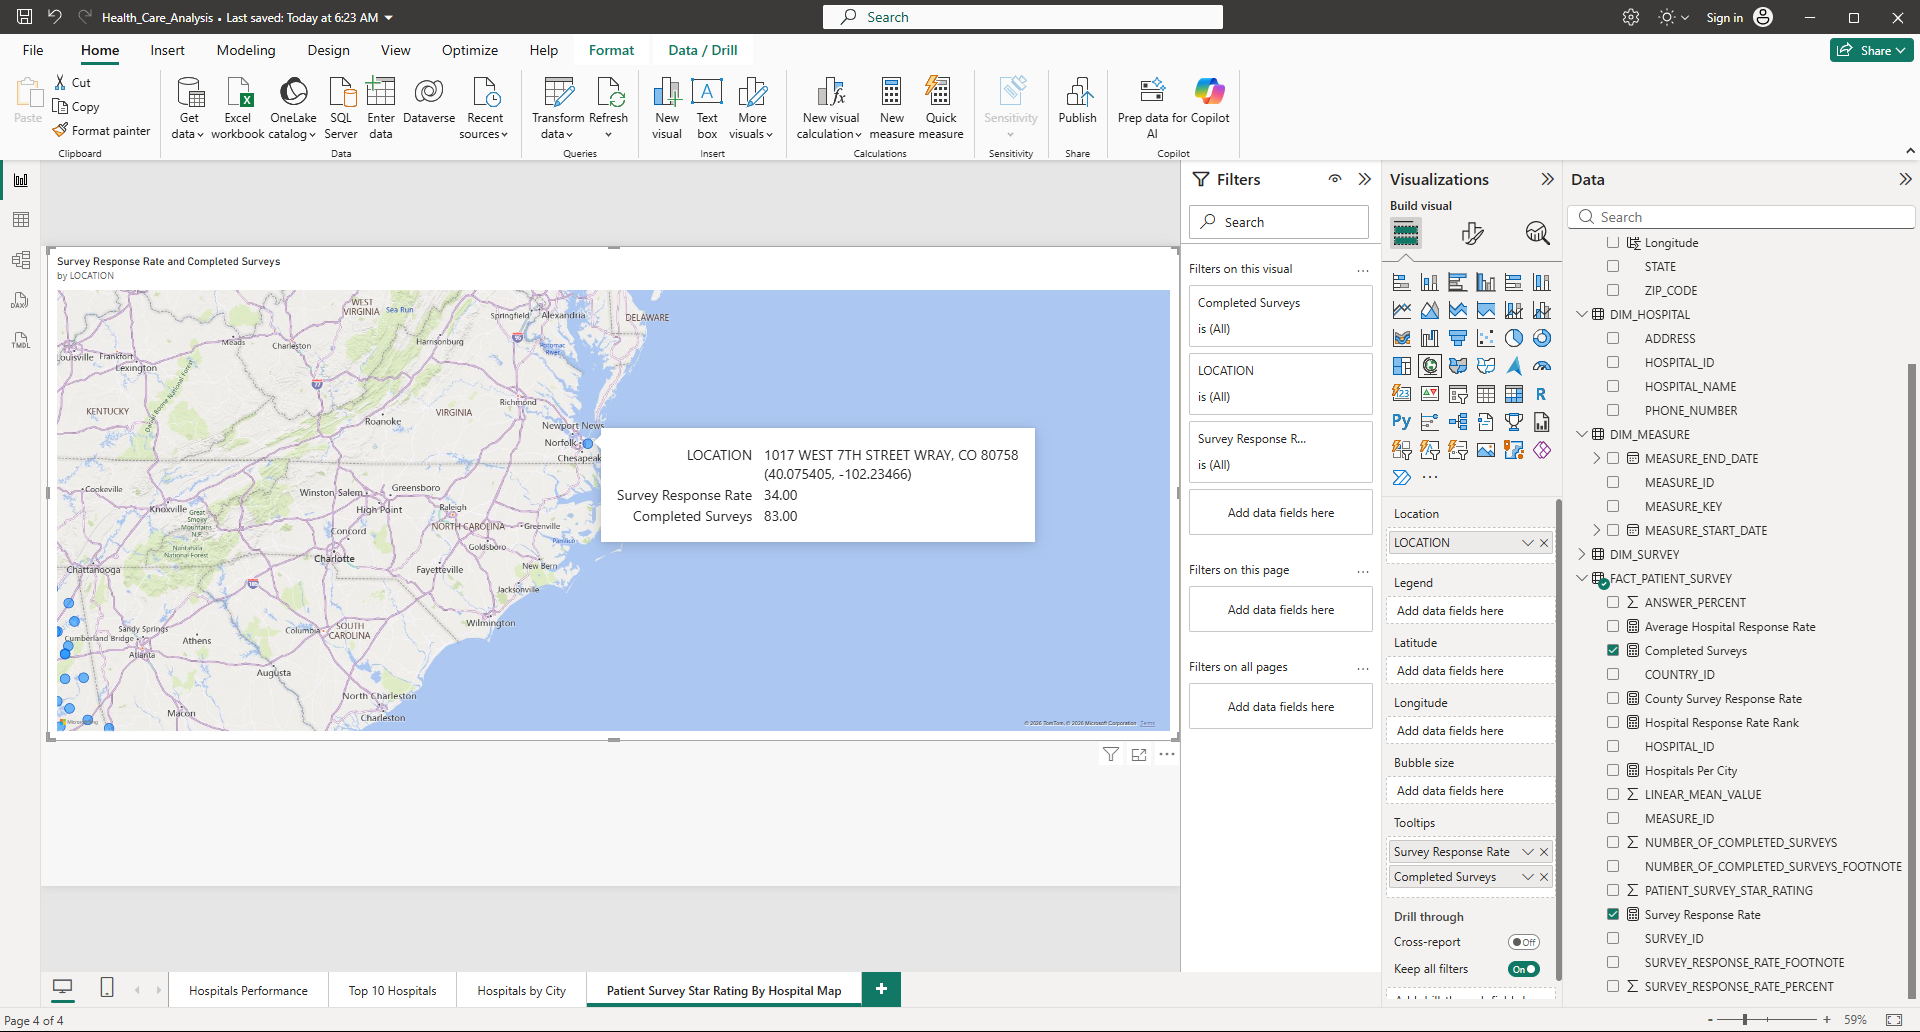

What the dashboard file says about the page in this screenshot:
{"tool":"powerbi","page":{"name":"Hospital Survey Response Map","canvas":[1920,1080],"ordinal":3},"visuals":[{"type":"map","title":"Hospital Survey Response Rate by Location","fields":{"Category":["DIM_COUNTRY.LOCATION"]},"box":[10.1,0,1909.9,1080.5],"z":0}]}

Visuals, with their boxes on the page's 1920x1080 design canvas (x1, y1, x2, y2). These are canvas units, not pixel positions in the 1920x1032 screenshot, which may show the page scaled, cropped or inside an application window:
"Hospital Survey Response Rate by Location" map: bbox=(10, 0, 1920, 1080)
